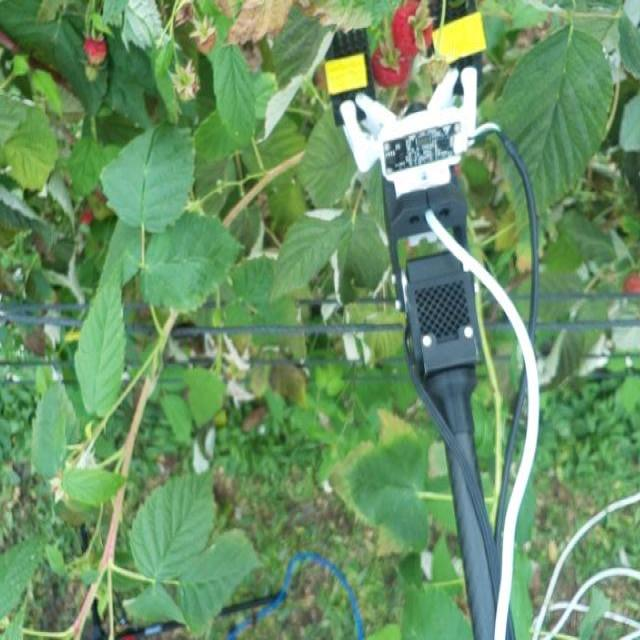Riped berries: (395, 4, 439, 68), (373, 38, 405, 89), (78, 29, 112, 66)
